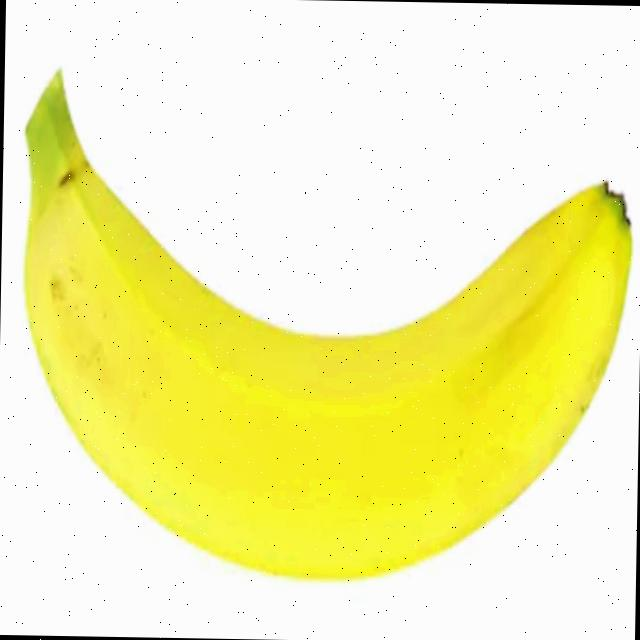Ripe: (9, 56, 640, 600)
